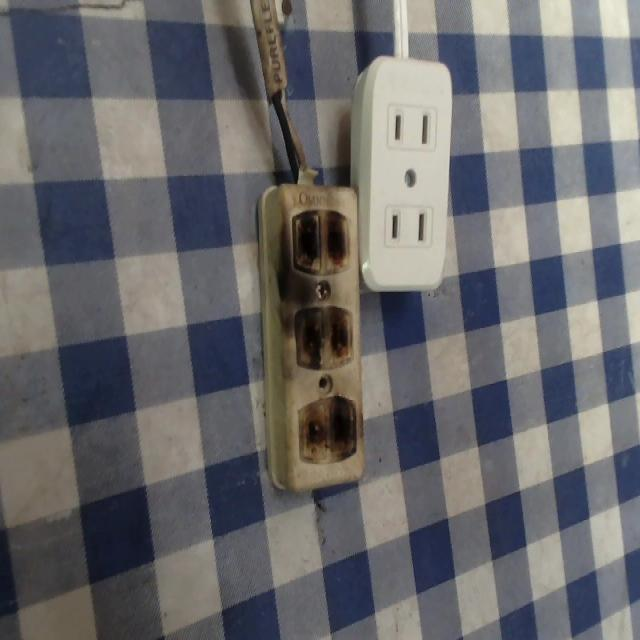-: (293, 389, 360, 463), (287, 200, 351, 277), (295, 300, 357, 373)
